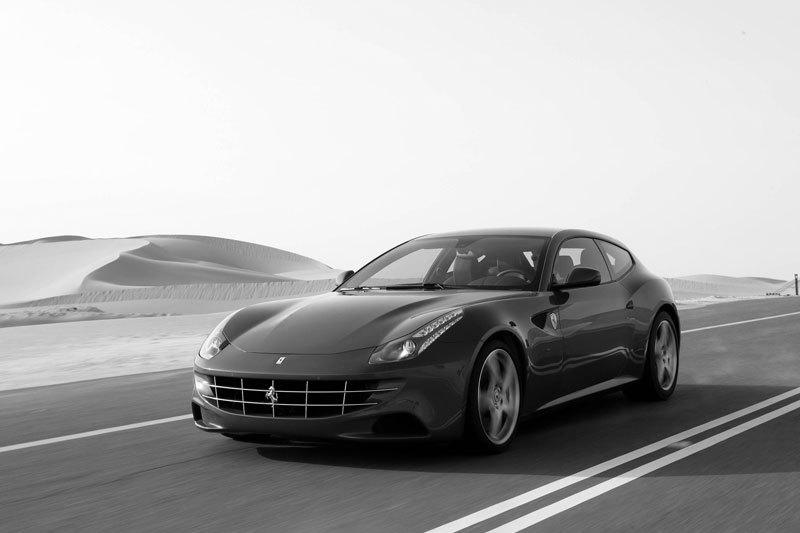car: (190, 229, 681, 454)
